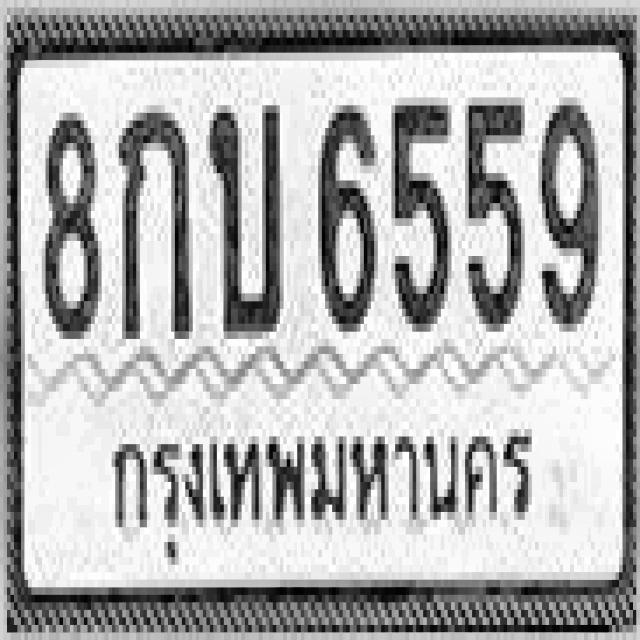license-plate: (12, 21, 632, 620)
